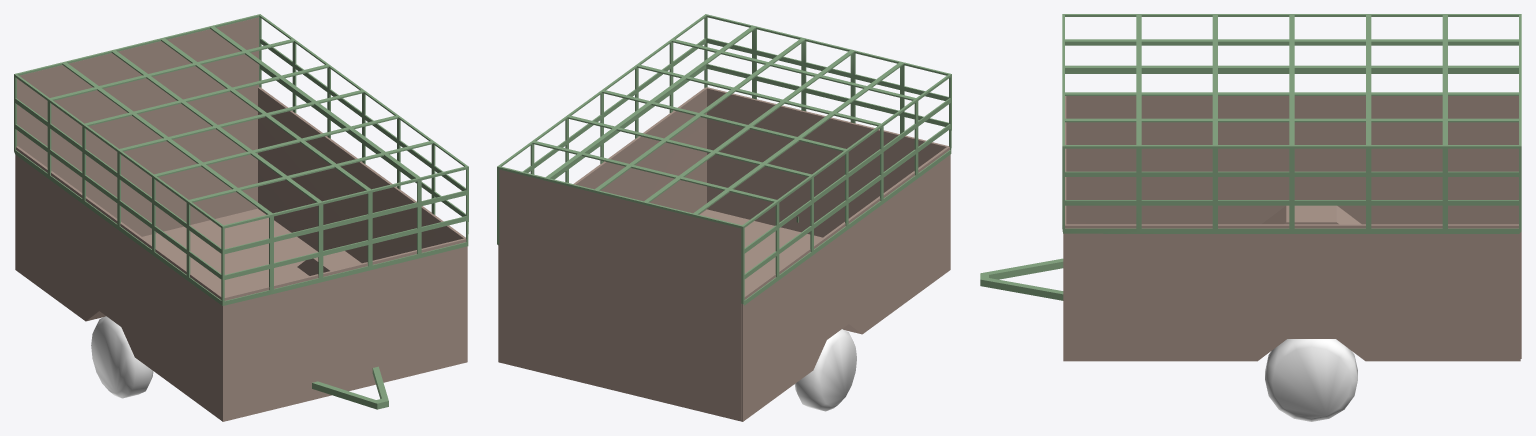
Rendered from cattle_cart.fbx.
The picture shows the model from 3 angles, left to right: view 1: azimuth 30°, elevation 25°; view 2: azimuth 150°, elevation 25°; view 3: azimuth 270°, elevation 25°; orthographic projection. The views are drawn at different scales.
Parts seen in each view (by area): view 1: Cube, gate, cage, wheel, Cube_2; view 2: Cube, gate, cage, wheel; view 3: Cube, cage, wheel_2, Cube_2.
Part boxes in pixels (x1,y1,x2,y2): Cube: (15, 87, 467, 421); gate: (17, 17, 258, 236); cage: (14, 14, 468, 305); wheel: (91, 316, 153, 398); Cube_2: (312, 366, 388, 409); Cube: (498, 87, 950, 421); gate: (499, 169, 741, 420); cage: (497, 14, 951, 305); wheel: (794, 329, 856, 411); Cube: (1063, 96, 1520, 361); cage: (1062, 14, 1521, 233); wheel_2: (1265, 339, 1357, 421); Cube_2: (980, 258, 1063, 300).
Size of the model in its own units: 175 by 171 by 302.
